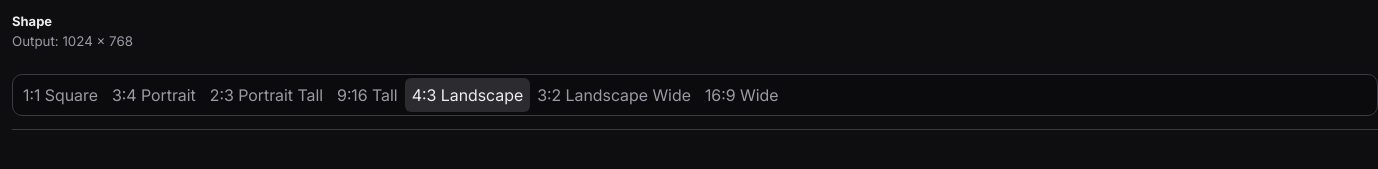
OutputRatioControl › says so when the revision stops offering a ratio it had offered
Click the button "16:9 Wide" at (742, 95), box [698, 78, 785, 112]
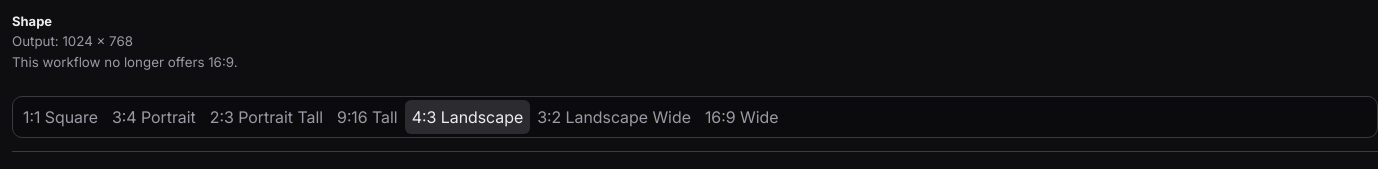
Expected: the text "This workflow no longer offers 16:9." is shown, [12, 54, 238, 70]
